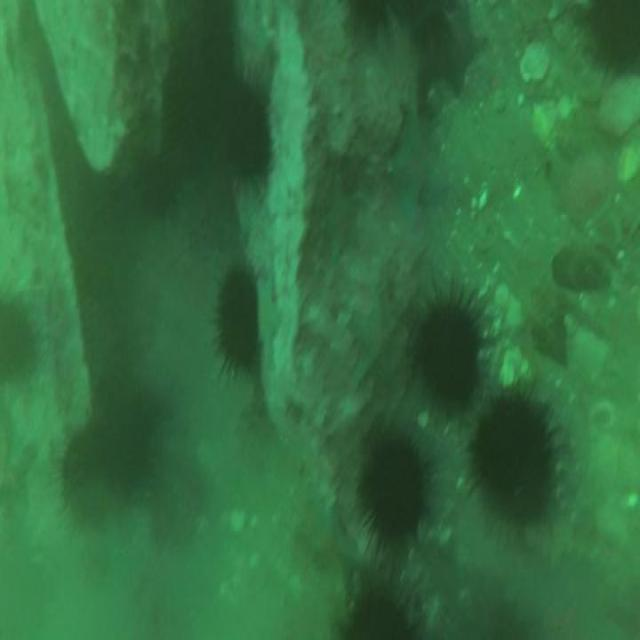echinus: (58, 390, 156, 502), (474, 394, 550, 515), (358, 438, 424, 542), (418, 297, 480, 406), (222, 82, 274, 177), (216, 264, 260, 370), (338, 591, 412, 640), (586, 3, 640, 68), (0, 299, 36, 387), (141, 153, 178, 223)
scallop: (518, 36, 551, 90)
starfish: (388, 100, 448, 224), (421, 0, 482, 88), (324, 180, 364, 256)
